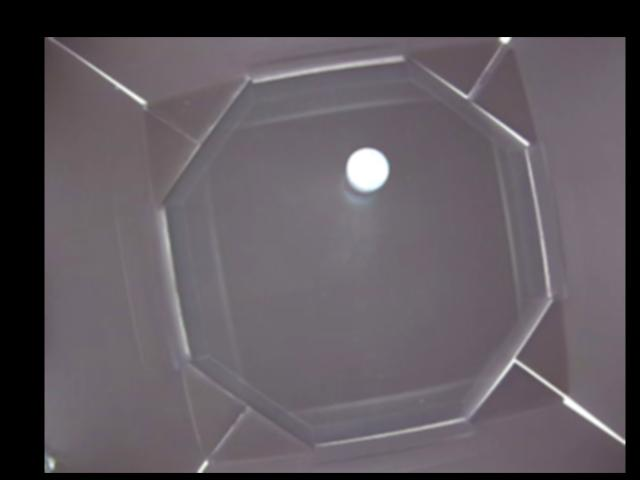Medicine: (343, 146, 390, 203)
